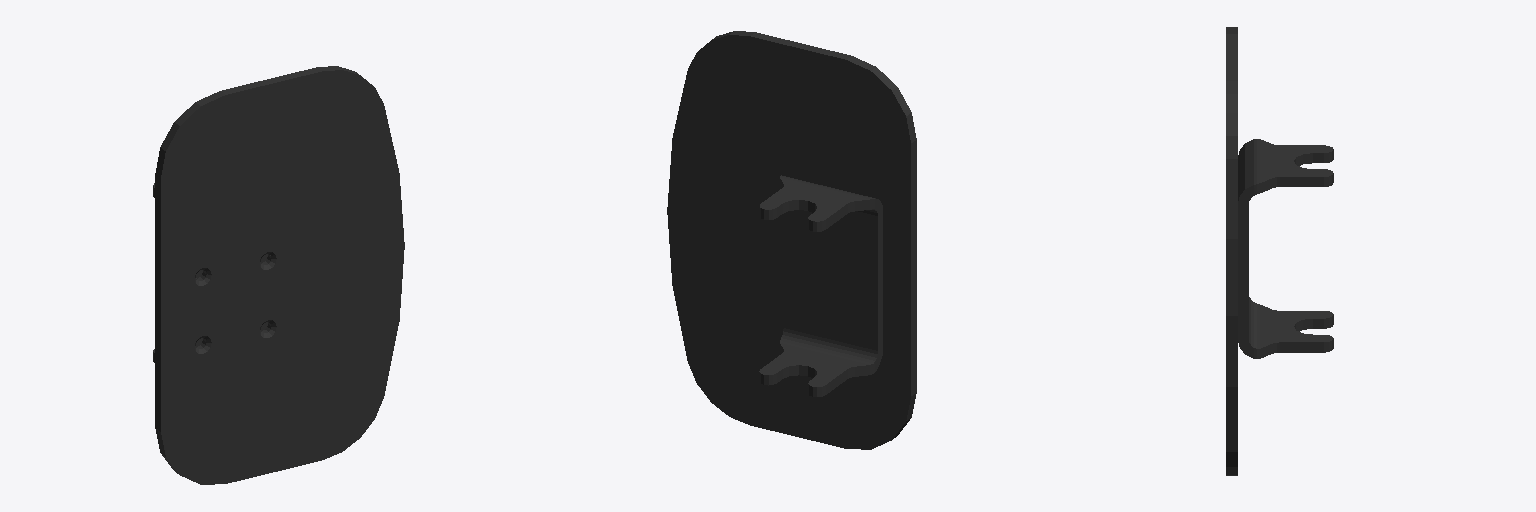
File: Shoe_Flex_1__1_mesh_0.obj
3 renders of one model, left to right at view 1: azimuth 30°, elevation 25°; view 2: azimuth 150°, elevation 25°; view 3: azimuth 270°, elevation 25°, orthographic.
Size of the model in its own units: 0.075 by 0.1143 by 0.0286.